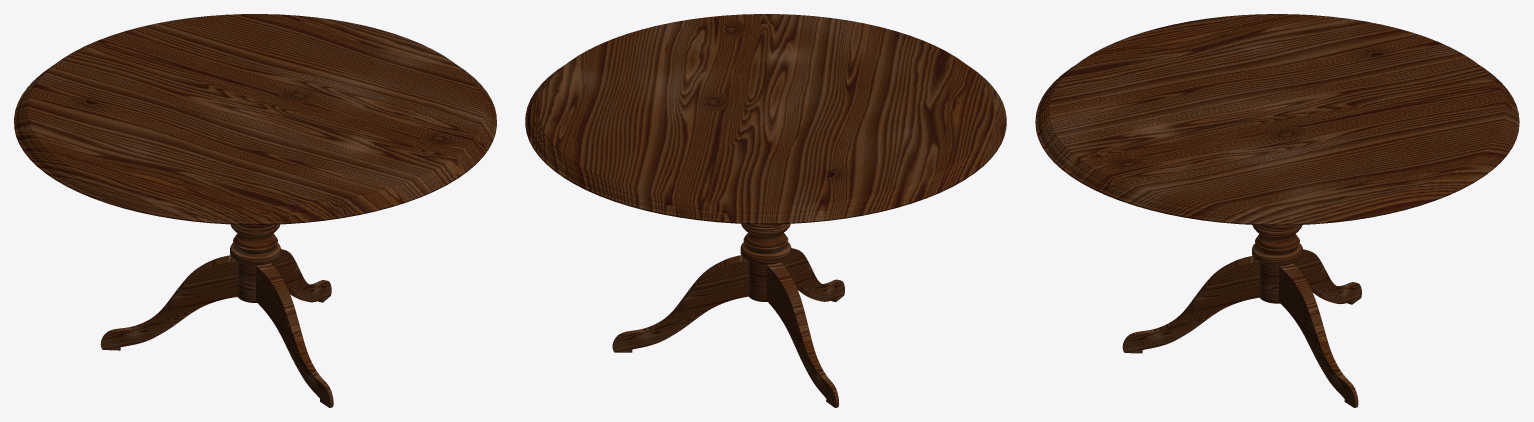
Rendered from conference_round_table_OBJ.obj.
The picture shows the model from 3 angles, left to right: view 1: azimuth 30°, elevation 25°; view 2: azimuth 150°, elevation 25°; view 3: azimuth 270°, elevation 25°; orthographic projection.
Visible parts, largest first — view 1: Table_Top_Wood; view 2: Table_Top_Wood; view 3: Table_Top_Wood.
Part boxes in pixels (box(x1,y1,x2,y2)): Table_Top_Wood: box(14, 14, 496, 407); Table_Top_Wood: box(525, 14, 1006, 407); Table_Top_Wood: box(1035, 14, 1519, 407).
Bounding box in the file's own units: 4.78 × 2.64 × 4.78.
Materials: 1 (1 with a texture image).
